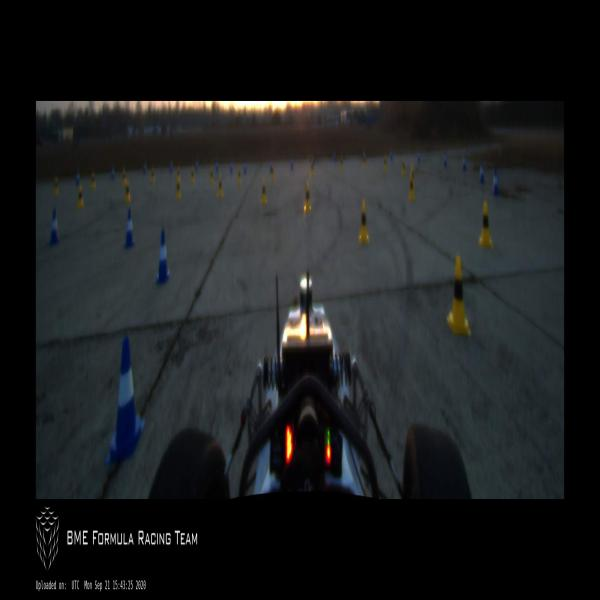blue_cone: (105, 335, 146, 466), (156, 228, 170, 285), (123, 208, 136, 251), (48, 207, 60, 247), (493, 168, 499, 194), (74, 170, 80, 188), (480, 162, 484, 184), (109, 165, 114, 180), (462, 155, 466, 171), (362, 147, 366, 161), (269, 160, 273, 174), (142, 162, 146, 175), (230, 160, 233, 174), (444, 153, 447, 167), (195, 157, 198, 170), (170, 160, 173, 172), (216, 159, 218, 174), (291, 156, 293, 171), (333, 152, 336, 162), (244, 163, 246, 176), (390, 148, 392, 160), (418, 152, 420, 163)
yellow_cone: (445, 255, 472, 338), (478, 201, 493, 248), (358, 199, 369, 244), (408, 174, 416, 204), (304, 182, 311, 212), (124, 180, 132, 204), (76, 185, 84, 209), (261, 178, 267, 205), (175, 178, 181, 200), (410, 163, 415, 189), (53, 176, 59, 196), (218, 176, 223, 198), (190, 164, 195, 183), (91, 172, 96, 189), (402, 159, 406, 178), (122, 167, 126, 185), (237, 168, 241, 186), (151, 166, 155, 183), (384, 153, 387, 172), (177, 165, 181, 179), (210, 167, 213, 185), (271, 165, 274, 182), (311, 159, 314, 176), (340, 157, 343, 172), (363, 154, 366, 168)
